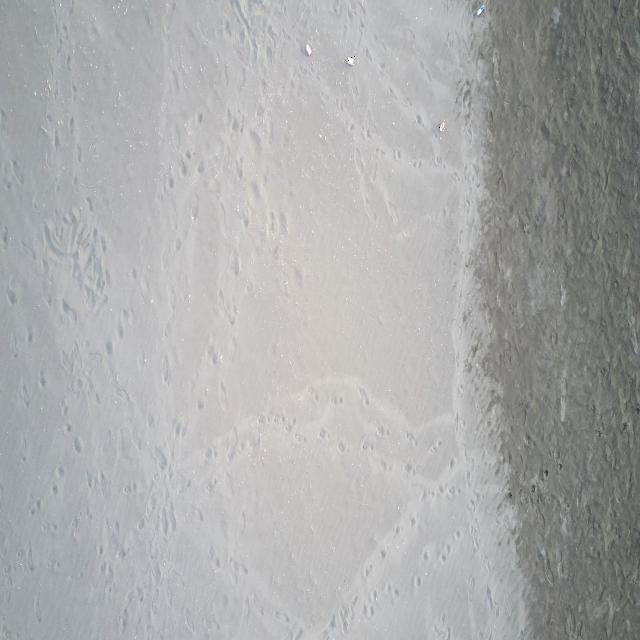Garbage: (475, 4, 484, 16), (437, 120, 446, 131), (304, 43, 312, 55), (346, 55, 355, 64)
